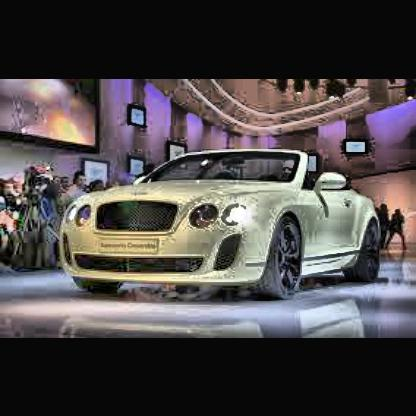Bentley Continental Supersports Conv- Convertible 2012: (52, 140, 402, 304)
